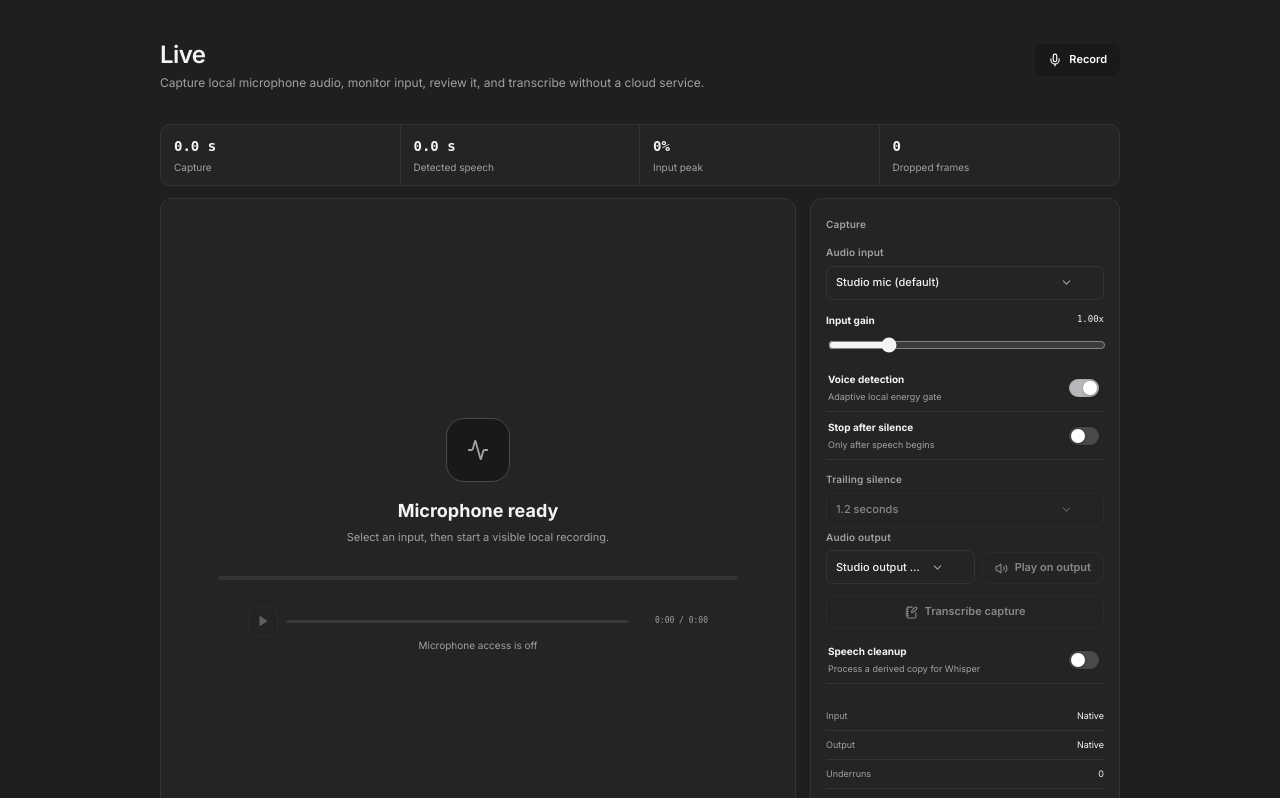
Scenario: Live capture › loads an auto-stopped capture and keeps it available for transcription
The width and height of the screenshot is (1280, 798).
Step 1. Click the button "Record" → (1078, 60), box x1=1035 y1=44 x2=1120 y2=76
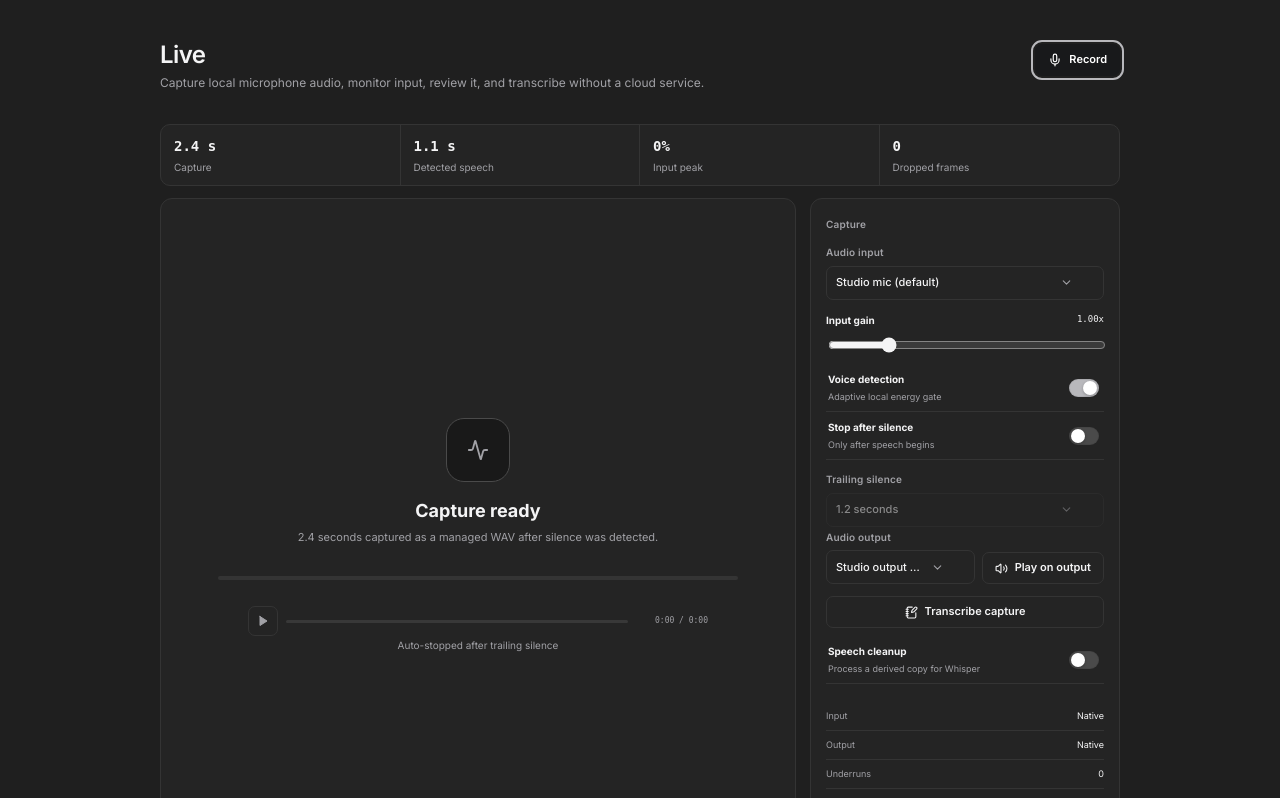
Now the text "Auto-stopped after trailing silence" is shown, box x1=398 y1=638 x2=558 y2=652
Now the button "Transcribe capture" is enabled, box x1=826 y1=596 x2=1104 y2=628
